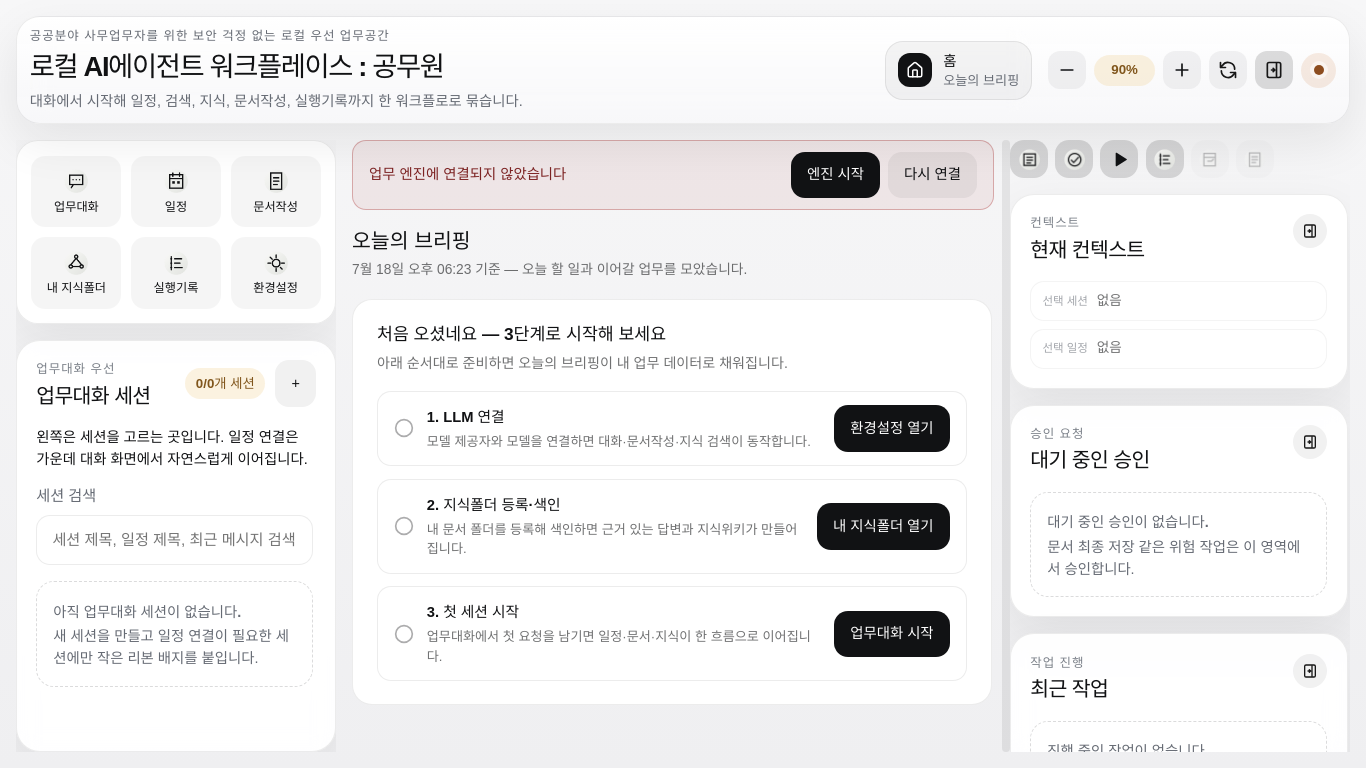
Test: 실행기록 화면 › highlights failed rows and keeps developer JSON collapsed under 개발자 정보
Click the button "실행기록" at (176, 273), box [131,237,221,309]
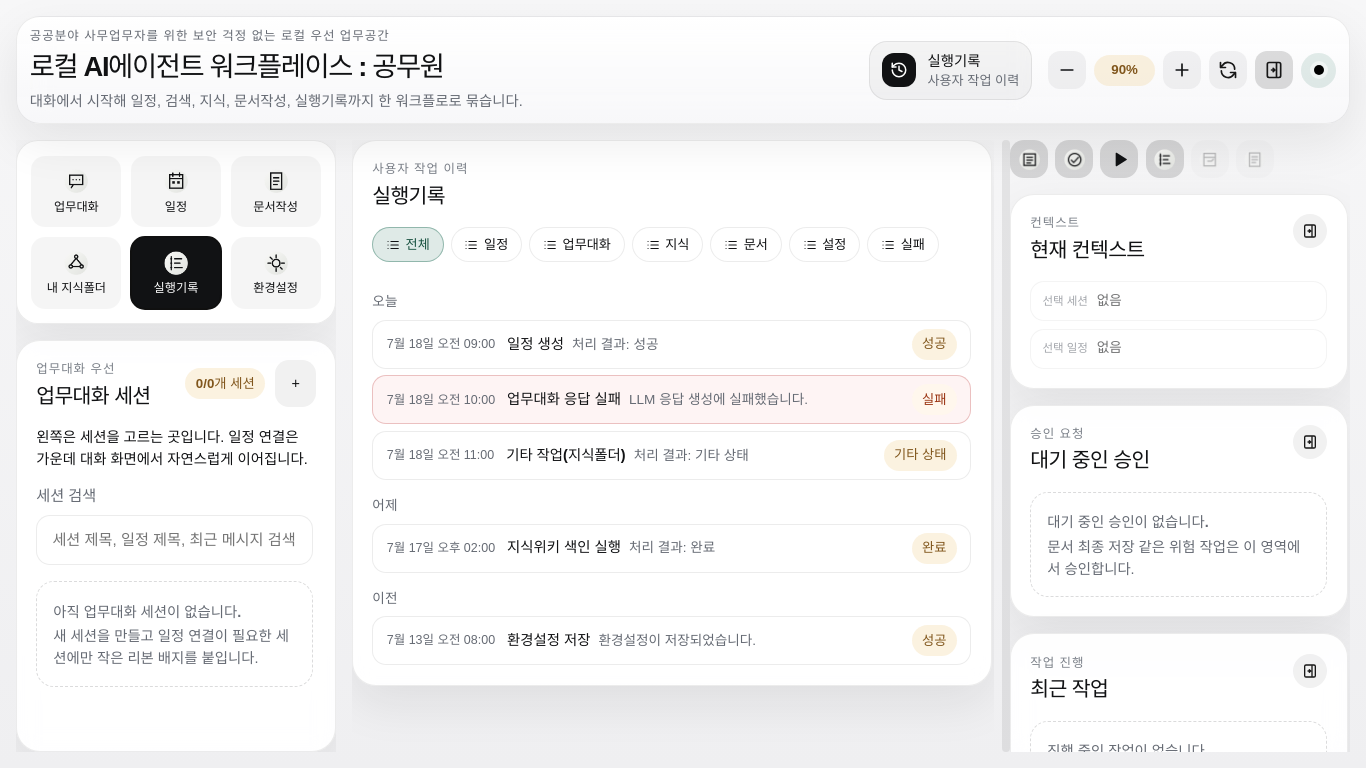
Expected: the text "LLM server returned no assistant text." is not shown
Click the button "7월 18일 오전 10:00 업무대화 응답 실패 LLM 응답 생성에 실패했습니다. 실패" at (672, 400), box [373,376,970,424]
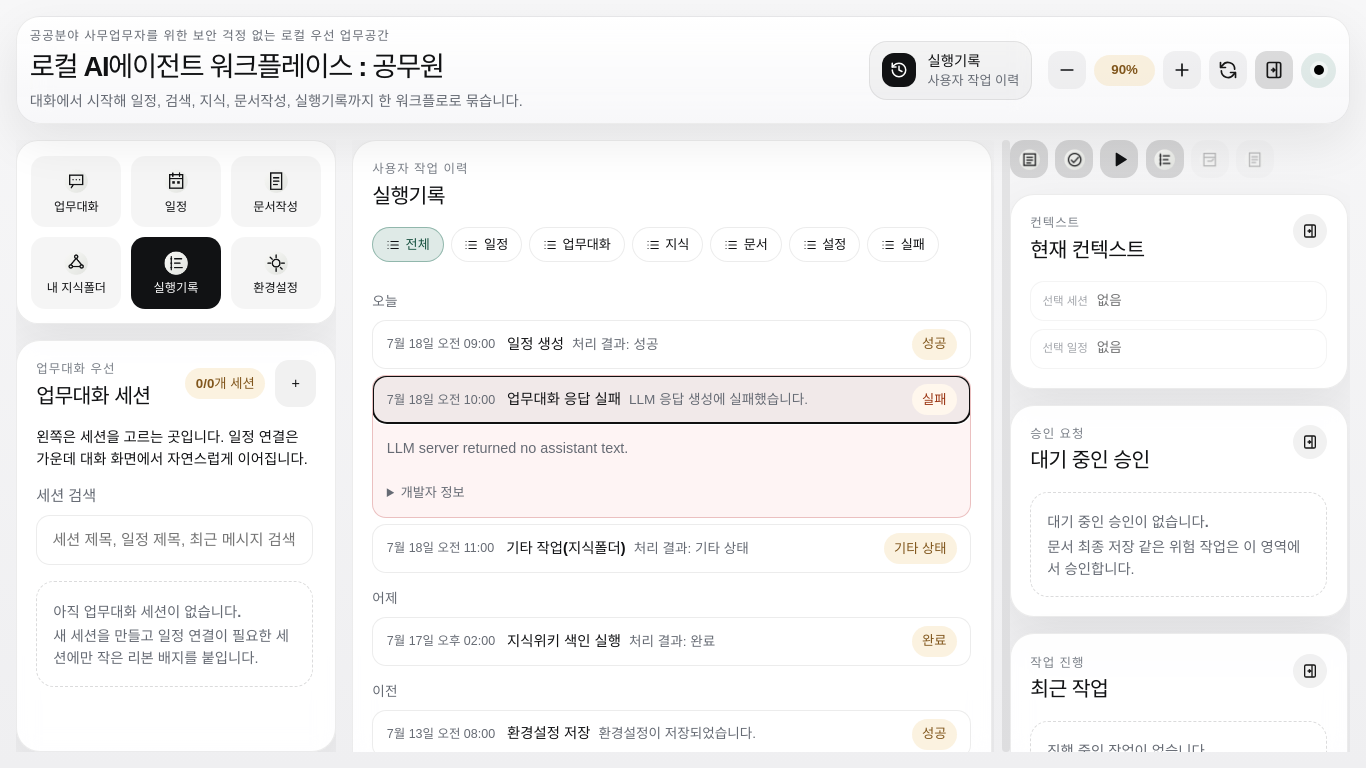
Expected: the text "LLM 응답 생성에 실패했습니다." is shown, [629,392,808,407]
Click the heading "개발자 정보" at (433, 493), box [401,486,465,500]
(page scrolled)
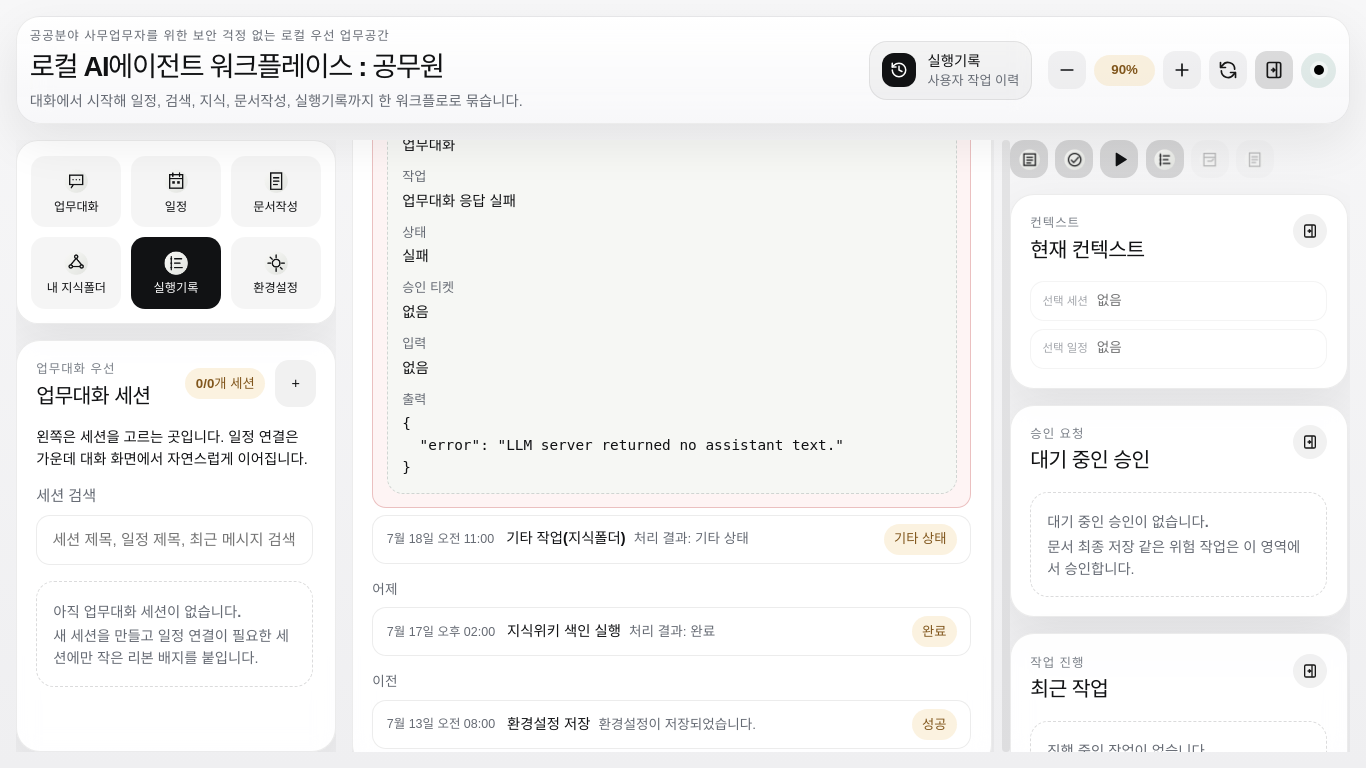
Expected: the text "{ \"error\": \"LLM server returned no assistant text.\" }" is shown, [402,416,844,475]
